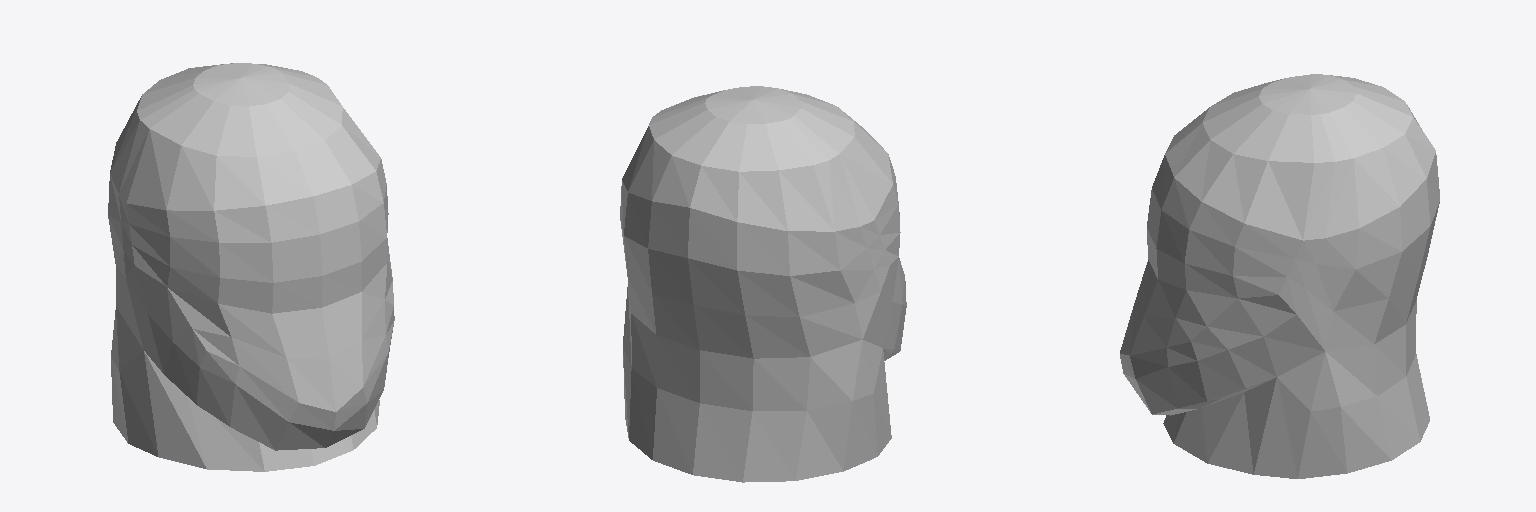
Rendered from nativeAmerican_tower_coyote_v01_colin_feb01.obj.
The picture shows the model from 3 angles: view 1: azimuth 30°, elevation 25°; view 2: azimuth 150°, elevation 25°; view 3: azimuth 270°, elevation 25°; orthographic projection.
Visible parts, largest first — view 1: Mesh; view 2: Mesh; view 3: Mesh.
Part boxes in pixels (x1,y1,x2,y2): Mesh: (108, 63, 394, 471); Mesh: (620, 86, 906, 482); Mesh: (1120, 74, 1439, 478).
Bounding box in the file's own units: 5.03 × 6.61 × 5.75.